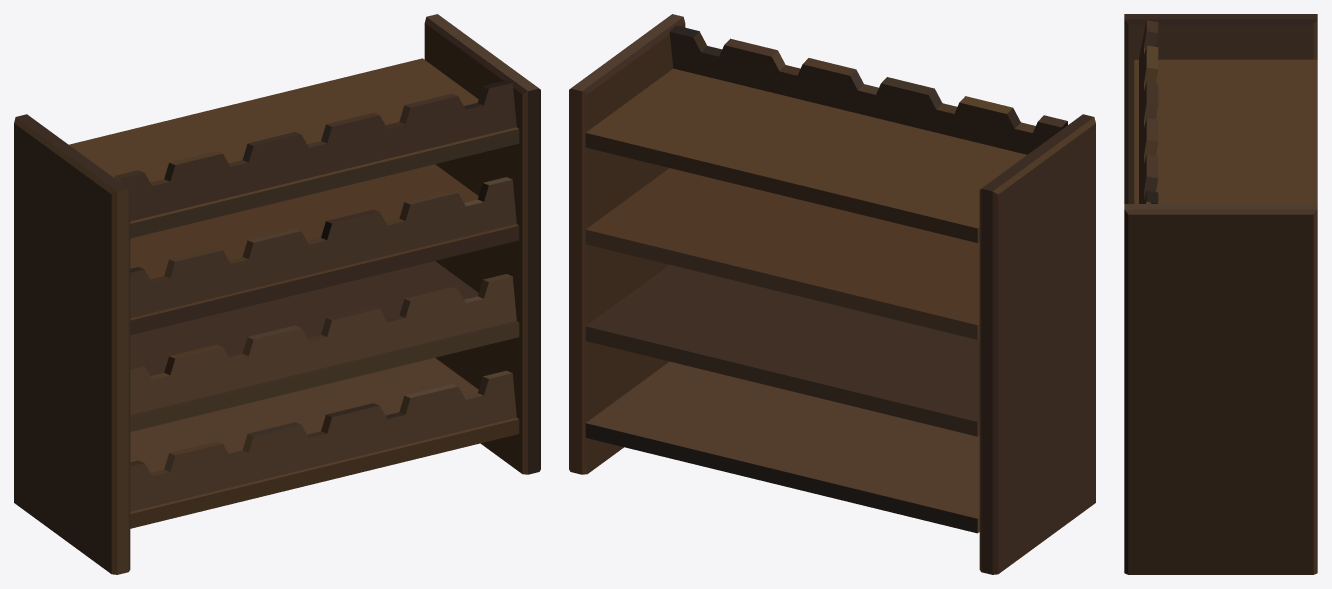
File: Furniture_WineHolder.fbx
3 renders of one model, left to right at view 1: azimuth 30°, elevation 25°; view 2: azimuth 150°, elevation 25°; view 3: azimuth 270°, elevation 25°, orthographic. The views are drawn at different scales.
Visible parts, largest first — view 1: Furniture_WineHolder; view 2: Furniture_WineHolder; view 3: Furniture_WineHolder.
Part boxes in pixels (x1,y1,x2,y2): Furniture_WineHolder: (14, 14, 540, 574); Furniture_WineHolder: (569, 14, 1095, 574); Furniture_WineHolder: (1124, 14, 1317, 574).
Bounding box in the file's own units: 119 × 102 × 48.72.
